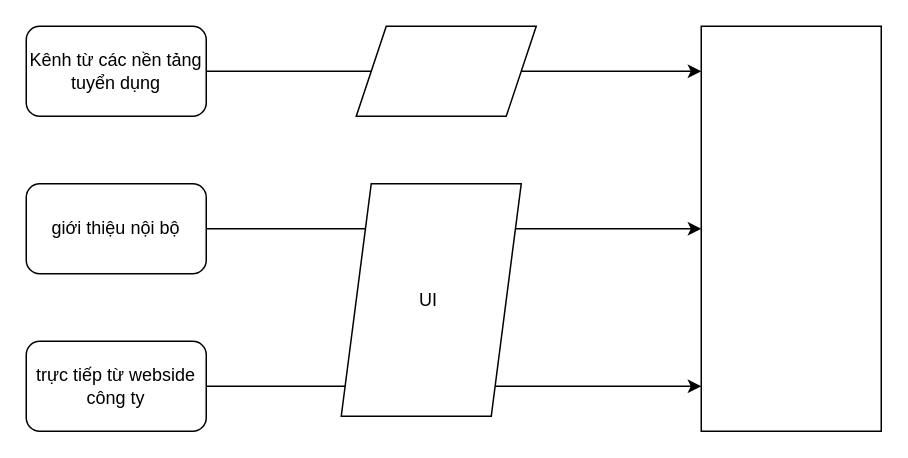
Some shapes in this 908 by 458 pixel diagram are drawn without their labels. The box of each missing label's shape, as (x1, y1, x2, y2) in pixels:
job receive mail: (355, 25, 536, 116)
Quản lý CV: (700, 25, 881, 431)
